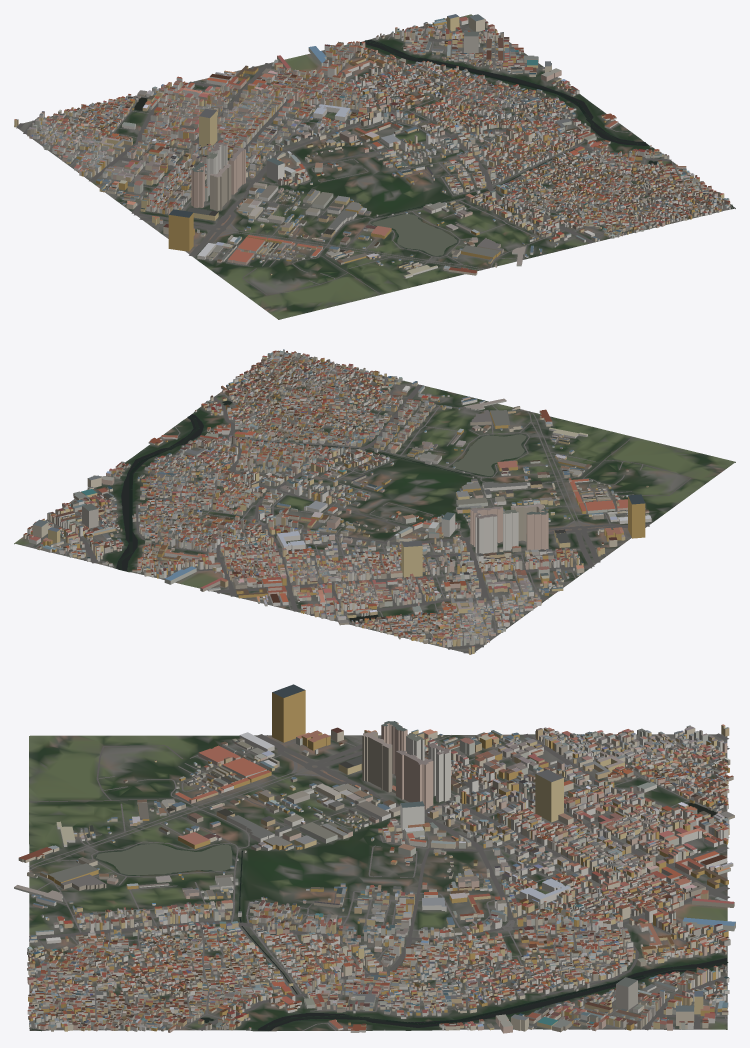
3 views of the same model, one above another, from view 1: azimuth 30°, elevation 25°; view 2: azimuth 150°, elevation 25°; view 3: azimuth 270°, elevation 25° (orthographic). The views are drawn at different scales.
Parts seen in each view (by area): view 1: buildings, ground, roads, water; view 2: buildings, ground, roads, water; view 3: buildings, ground, roads, water.
Part boxes in pixels (x1,y1,x2,y2): buildings: (14,14,730,278); ground: (14,14,735,319); roads: (16,24,732,295); water: (134,39,733,255); buildings: (23,349,651,654); ground: (14,350,735,654); roads: (30,351,691,653); water: (116,350,526,621); buildings: (14,684,735,1033); ground: (29,734,727,1031); roads: (29,733,729,1030); water: (29,803,728,1031).
Size of the model in its own units: 1446 by 115 by 1449.
